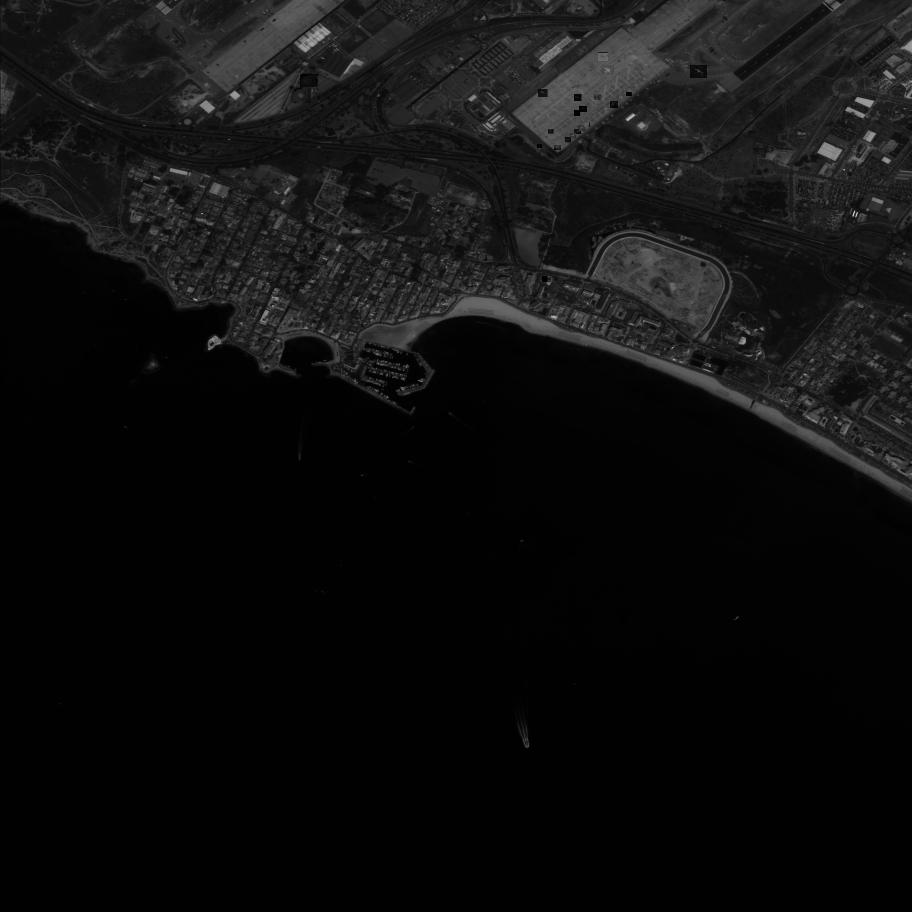plane: (690, 64, 707, 80), (601, 64, 614, 77), (599, 53, 608, 62), (539, 89, 548, 97), (574, 94, 582, 102), (610, 101, 618, 109), (579, 106, 587, 113), (574, 129, 581, 136), (579, 125, 586, 132), (565, 137, 571, 144), (570, 133, 576, 140), (555, 145, 561, 151), (575, 110, 581, 116), (594, 95, 601, 100), (585, 122, 590, 128), (626, 92, 632, 97), (548, 130, 553, 133), (538, 145, 542, 147)
storage-tank: (291, 87, 313, 104), (301, 74, 317, 87), (543, 276, 548, 282), (548, 276, 553, 281)
